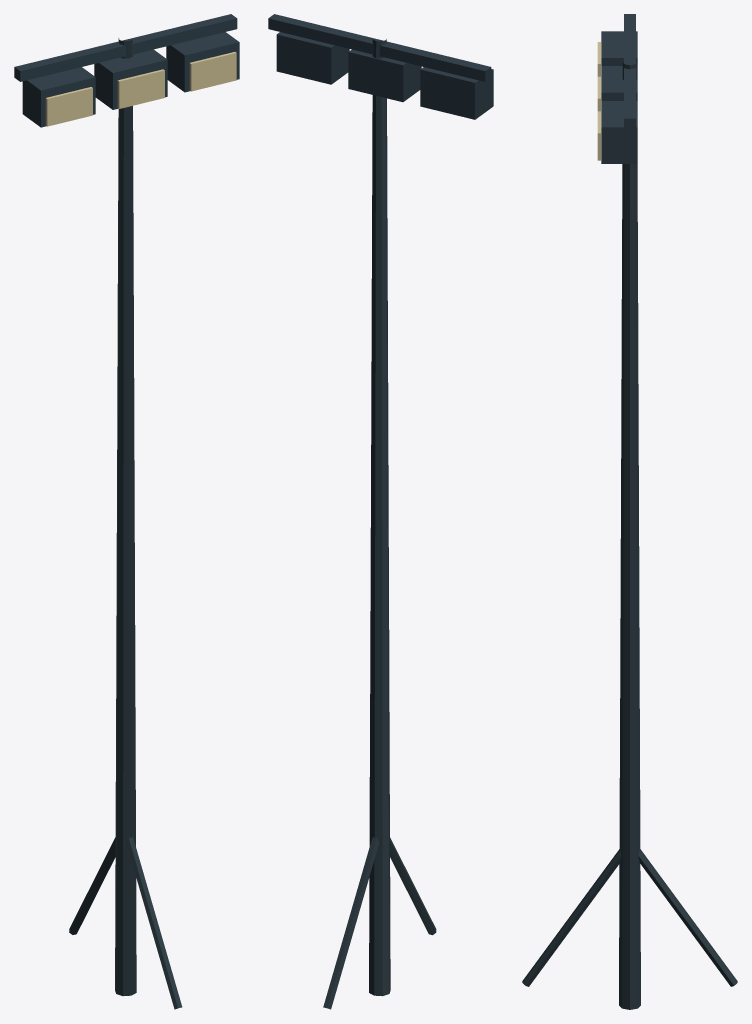
Rendered from floodlight.glb.
3 renders of one model, left to right at view 1: azimuth 30°, elevation 25°; view 2: azimuth 150°, elevation 25°; view 3: azimuth 270°, elevation 25°, orthographic.
Parts seen in each view (by area): view 1: floodlight; view 2: floodlight; view 3: floodlight.
Part boxes in pixels (x1=…): floodlight: x1=14, y1=14, x2=239, y2=1009; floodlight: x1=268, y1=14, x2=493, y2=1009; floodlight: x1=522, y1=14, x2=737, y2=1009.
Size of the model in its own units: 1.9 by 7.98 by 1.65.
